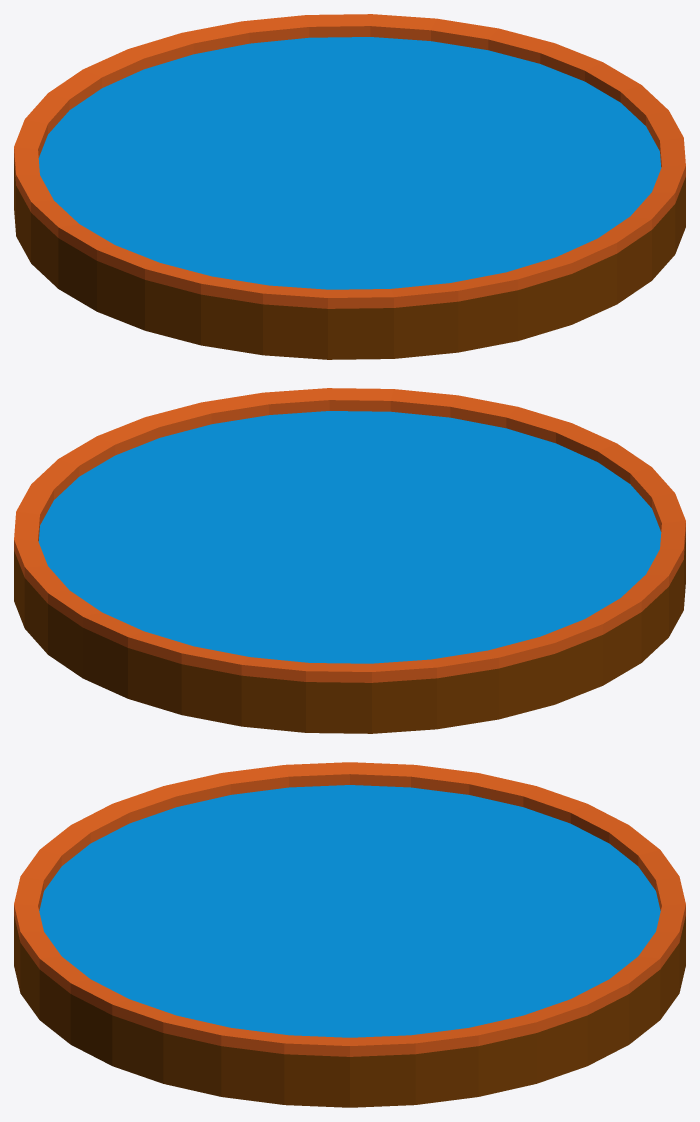
Rendered from Pond.fbx.
3 views of the same model, one above another, from view 1: azimuth 30°, elevation 25°; view 2: azimuth 150°, elevation 25°; view 3: azimuth 270°, elevation 25° (orthographic).
Parts seen in each view (by area): view 1: Pond; view 2: Pond; view 3: Pond.
Part boxes in pixels (<box>): Pond: <box>14,14,685,359</box>; Pond: <box>14,388,685,733</box>; Pond: <box>14,762,685,1107</box>.
Bounding box in the file's own units: 2082 × 211 × 2082.
